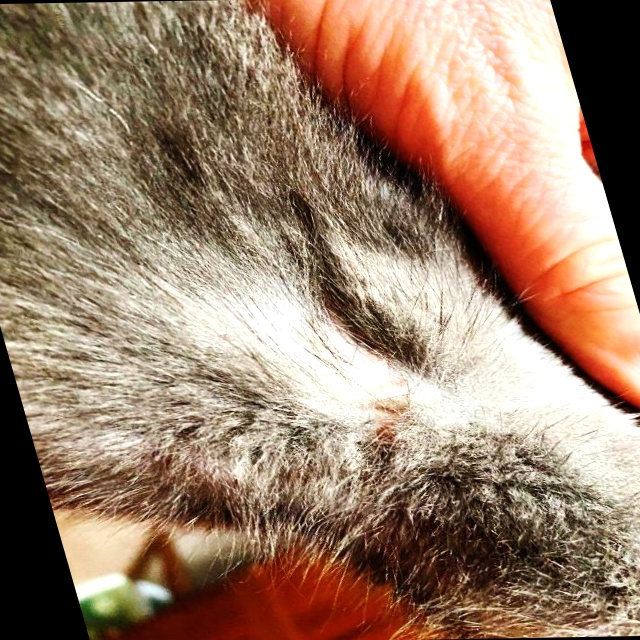hairloss: (308, 321, 437, 445)
